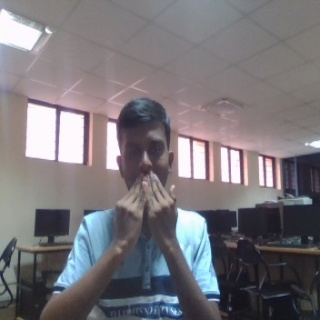Thank You: (114, 171, 182, 256)
